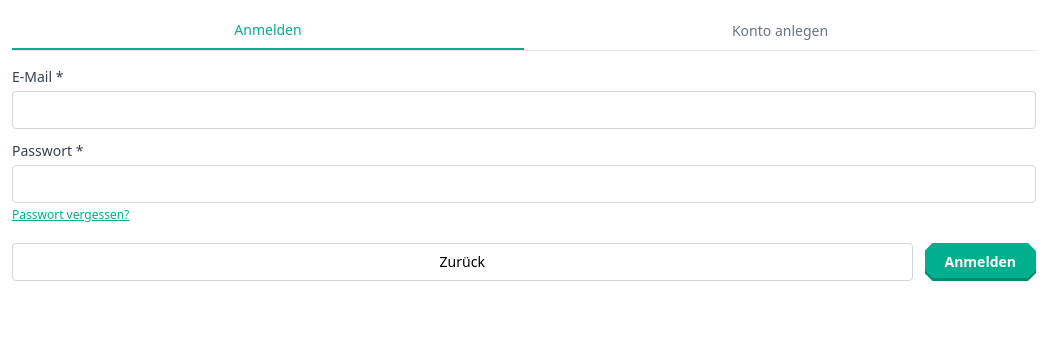
it: logging in › falls back to a generic message
Type "a@b.c" into the field labelled "E-Mail *" at (524, 110), box [12,91,1036,129]
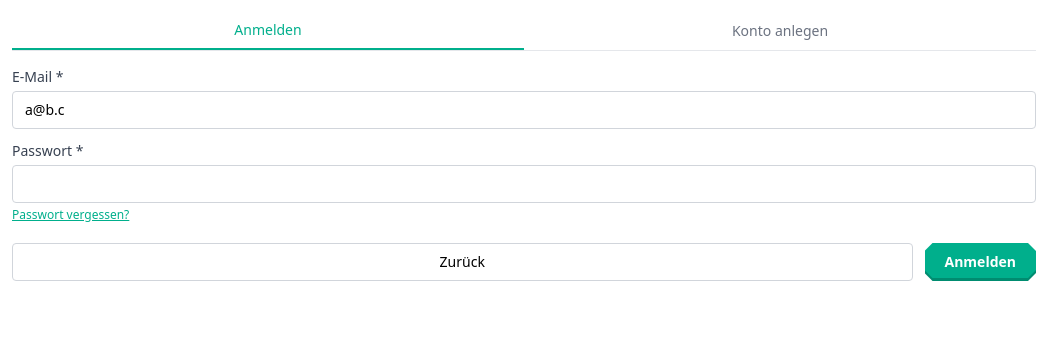
Type "x" into the password field labelled "Passwort *" at (524, 184), box [12,165,1036,203]
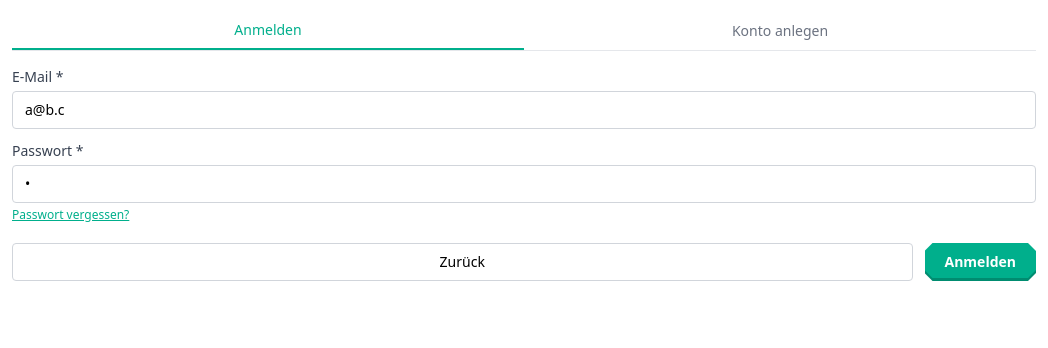
Submit the panel
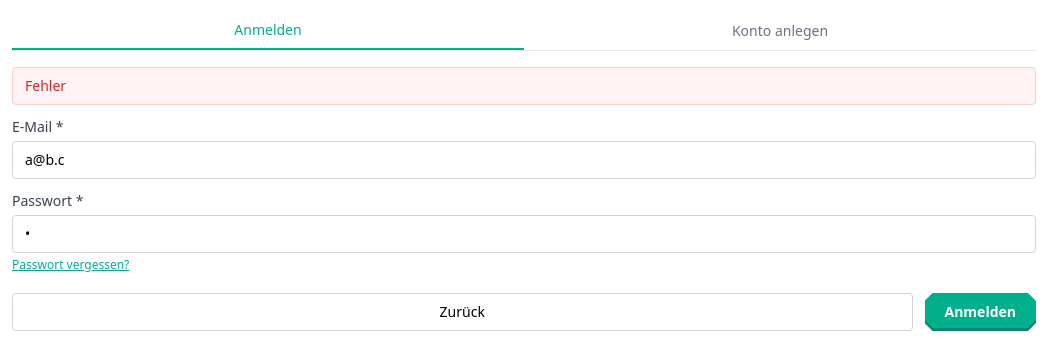
Now the message "Fehler" is shown, box [12,67,1036,105]
